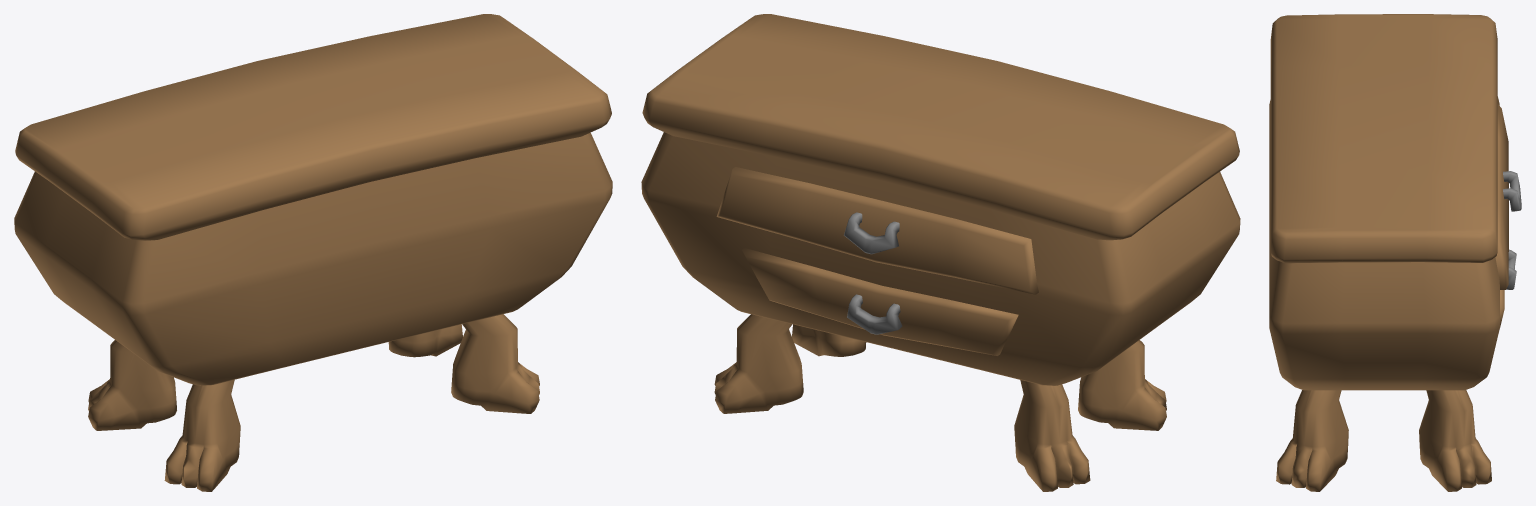
Rendered from props_buffet.fbx.
3 views of the same model, side by side, from view 1: azimuth 30°, elevation 25°; view 2: azimuth 150°, elevation 25°; view 3: azimuth 270°, elevation 25° (orthographic). The views are drawn at different scales.
Visible parts, largest first — view 1: Cube.002; view 2: Cube.002; view 3: Cube.002.
Part boxes in pixels (left/top/right/bottom): Cube.002: left=14, top=14, right=612, bottom=491; Cube.002: left=641, top=14, right=1240, bottom=491; Cube.002: left=1269, top=14, right=1521, bottom=491.
Size of the model in its own units: 1.59 by 0.7543 by 0.9634.
